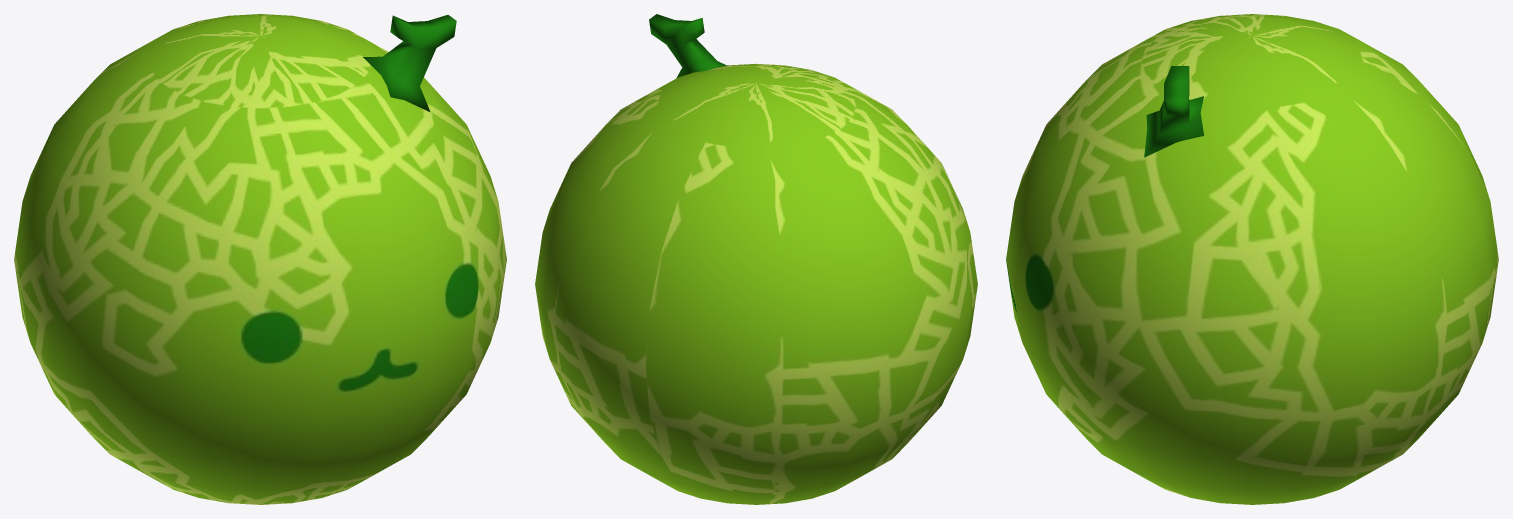
File: fruit_9.glb
3 views of the same model, side by side, from view 1: azimuth 30°, elevation 25°; view 2: azimuth 150°, elevation 25°; view 3: azimuth 270°, elevation 25° (orthographic). The views are drawn at different scales.
Visible parts, largest first — view 1: 9_FRUIT; view 2: 9_FRUIT; view 3: 9_FRUIT.
Part boxes in pixels (left/top/right/bottom): 9_FRUIT: left=14, top=14, right=506, bottom=504; 9_FRUIT: left=535, top=14, right=977, bottom=504; 9_FRUIT: left=1006, top=14, right=1498, bottom=504.
Bounding box in the file's own units: 2.1 × 2.19 × 2.1.
2 materials, 1 textured.
